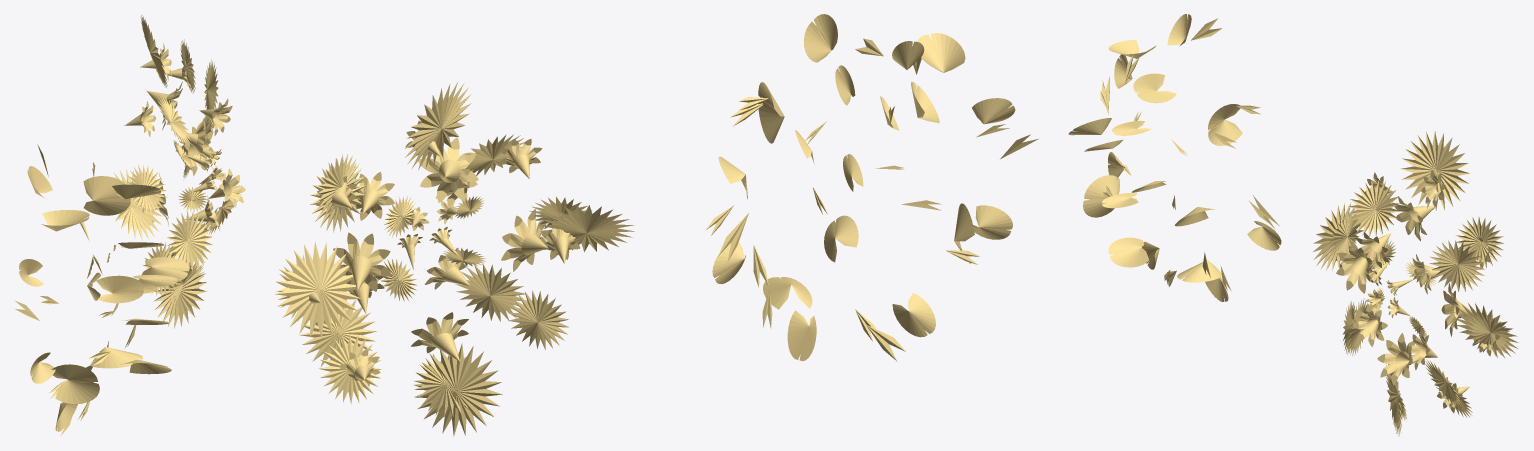
Rendered from 47_openskp_material_9.obj.
3 renders of one model, left to right at view 1: azimuth 30°, elevation 25°; view 2: azimuth 150°, elevation 25°; view 3: azimuth 270°, elevation 25°, orthographic. The views are drawn at different scales.
Parts seen in each view (by area): view 1: 47_openskp_material_9; view 2: 47_openskp_material_9; view 3: 47_openskp_material_9.
Part boxes in pixels (x1=…): 47_openskp_material_9: x1=14, y1=15, x2=245, y2=436; 47_openskp_material_9: x1=274, y1=14, x2=1038, y2=435; 47_openskp_material_9: x1=1068, y1=14, x2=1518, y2=436.
Bounding box in the file's own units: 18.89 × 13.64 × 18.4.
